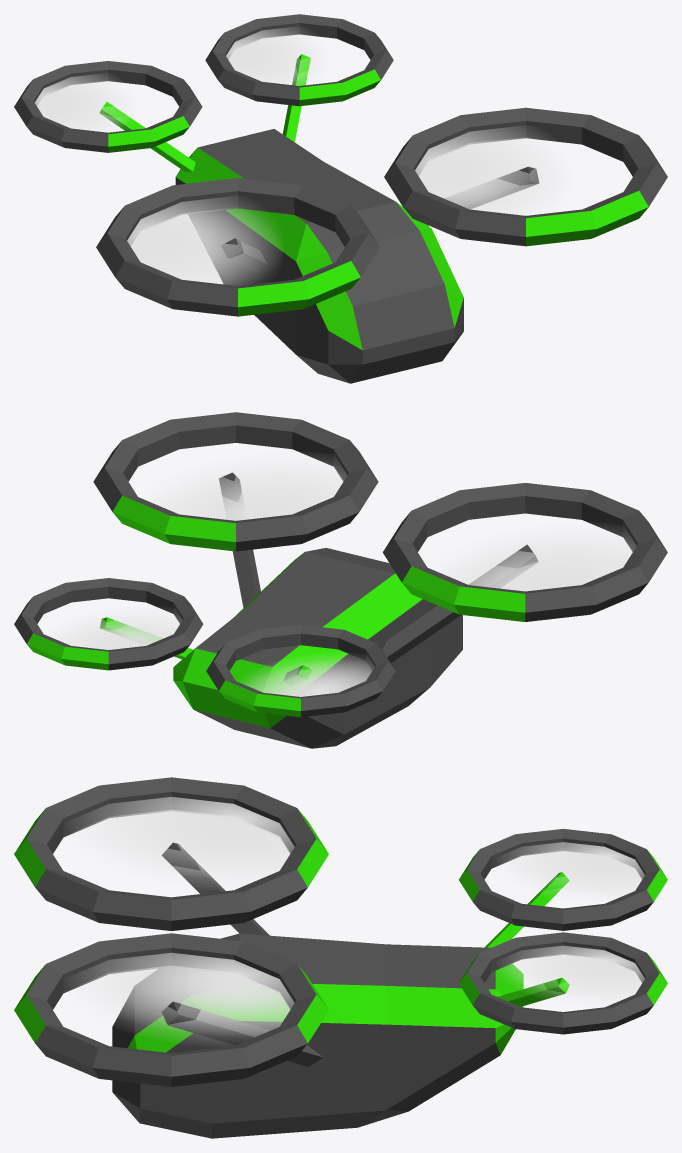
Rendered from Drone.glb.
3 renders of one model, top to bottom at view 1: azimuth 30°, elevation 25°; view 2: azimuth 150°, elevation 25°; view 3: azimuth 270°, elevation 25°, orthographic. The views are drawn at different scales.
Parts seen in each view (by area): view 1: FrontMotors, Body, Cylinder, Cylinder.003, Cylinder.002, Cylinder.001; view 2: FrontMotors, Body, Cylinder, Cylinder.003, Cylinder.002, Cylinder.001; view 3: FrontMotors, Body, Cylinder, Cylinder.003, Cylinder.002, Cylinder.001.
Part boxes in pixels (box(x1,y1,x2,y2)): FrontMotors: box(14, 14, 667, 316); Body: box(175, 129, 463, 383); Cylinder: box(415, 127, 566, 215); Cylinder.003: box(127, 197, 276, 285); Cylinder.002: box(226, 27, 323, 85); Cylinder.001: box(34, 74, 131, 132); FrontMotors: box(14, 412, 667, 717); Body: box(173, 548, 462, 748); Cylinder: box(146, 458, 346, 520); Cylinder.003: box(437, 529, 635, 591); Cylinder.002: box(50, 610, 181, 649); Cylinder.001: box(244, 657, 373, 696); FrontMotors: box(14, 777, 667, 1086); Body: box(112, 933, 523, 1138); Cylinder: box(75, 952, 294, 1040); Cylinder.003: box(76, 797, 294, 883); Cylinder.002: box(503, 945, 644, 1003); Cylinder.001: box(503, 842, 644, 899).
Bounding box in the file's own units: 7.87 × 2.5 × 7.53.
3 materials, 1 textured.
